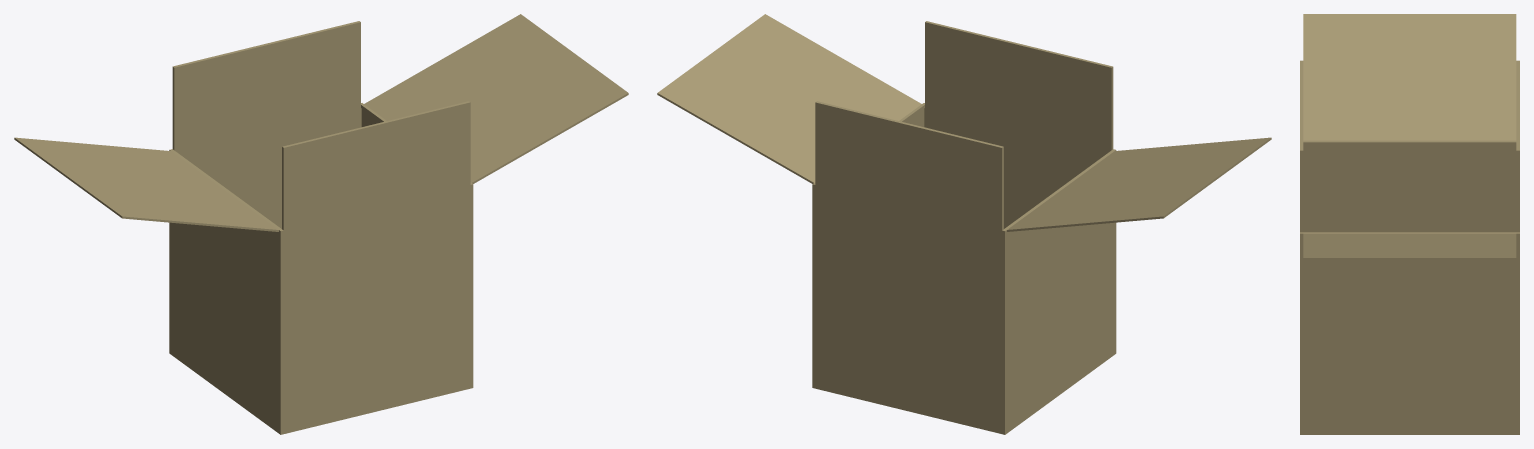
Rendered from PS_CardboardBox2_14_DF.fbx.
3 views of the same model, side by side, from view 1: azimuth 30°, elevation 25°; view 2: azimuth 150°, elevation 25°; view 3: azimuth 270°, elevation 25° (orthographic).
Parts seen in each view (by area): view 1: CardboardBox2; view 2: CardboardBox2; view 3: CardboardBox2.
Boxes of the visible parts, left/top/right/bottom form: CardboardBox2: left=14, top=14, right=628, bottom=434; CardboardBox2: left=657, top=14, right=1271, bottom=434; CardboardBox2: left=1300, top=14, right=1519, bottom=434.
Bounding box in the file's own units: 0.8782 × 0.4745 × 0.3342.
